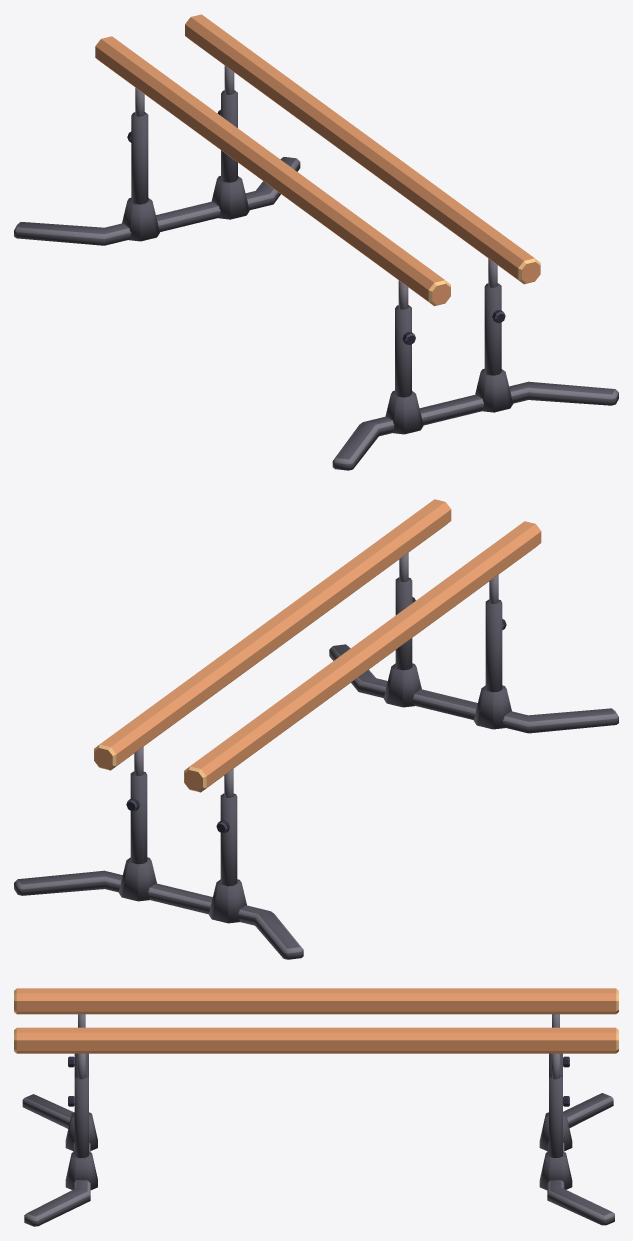
File: KaymaRampası.fbx
3 renders of one model, top to bottom at view 1: azimuth 30°, elevation 25°; view 2: azimuth 150°, elevation 25°; view 3: azimuth 270°, elevation 25°, orthographic. The views are drawn at different scales.
Visible parts, largest first — view 1: Tahta, Ayak1, Ayak2; view 2: Tahta, Ayak2, Ayak1; view 3: Tahta, Ayak1, Ayak2.
Part boxes in pixels (x1,y1,x2,y2): Tahta: [95, 14, 540, 306]; Ayak1: [332, 283, 618, 470]; Ayak2: [14, 90, 300, 245]; Tahta: [94, 499, 541, 792]; Ayak2: [14, 771, 303, 959]; Ayak1: [329, 577, 618, 733]; Tahta: [14, 988, 618, 1053]; Ayak1: [22, 1053, 97, 1226]; Ayak2: [539, 1053, 614, 1225].
Size of the model in its own units: 1.64 by 0.9323 by 3.33.
